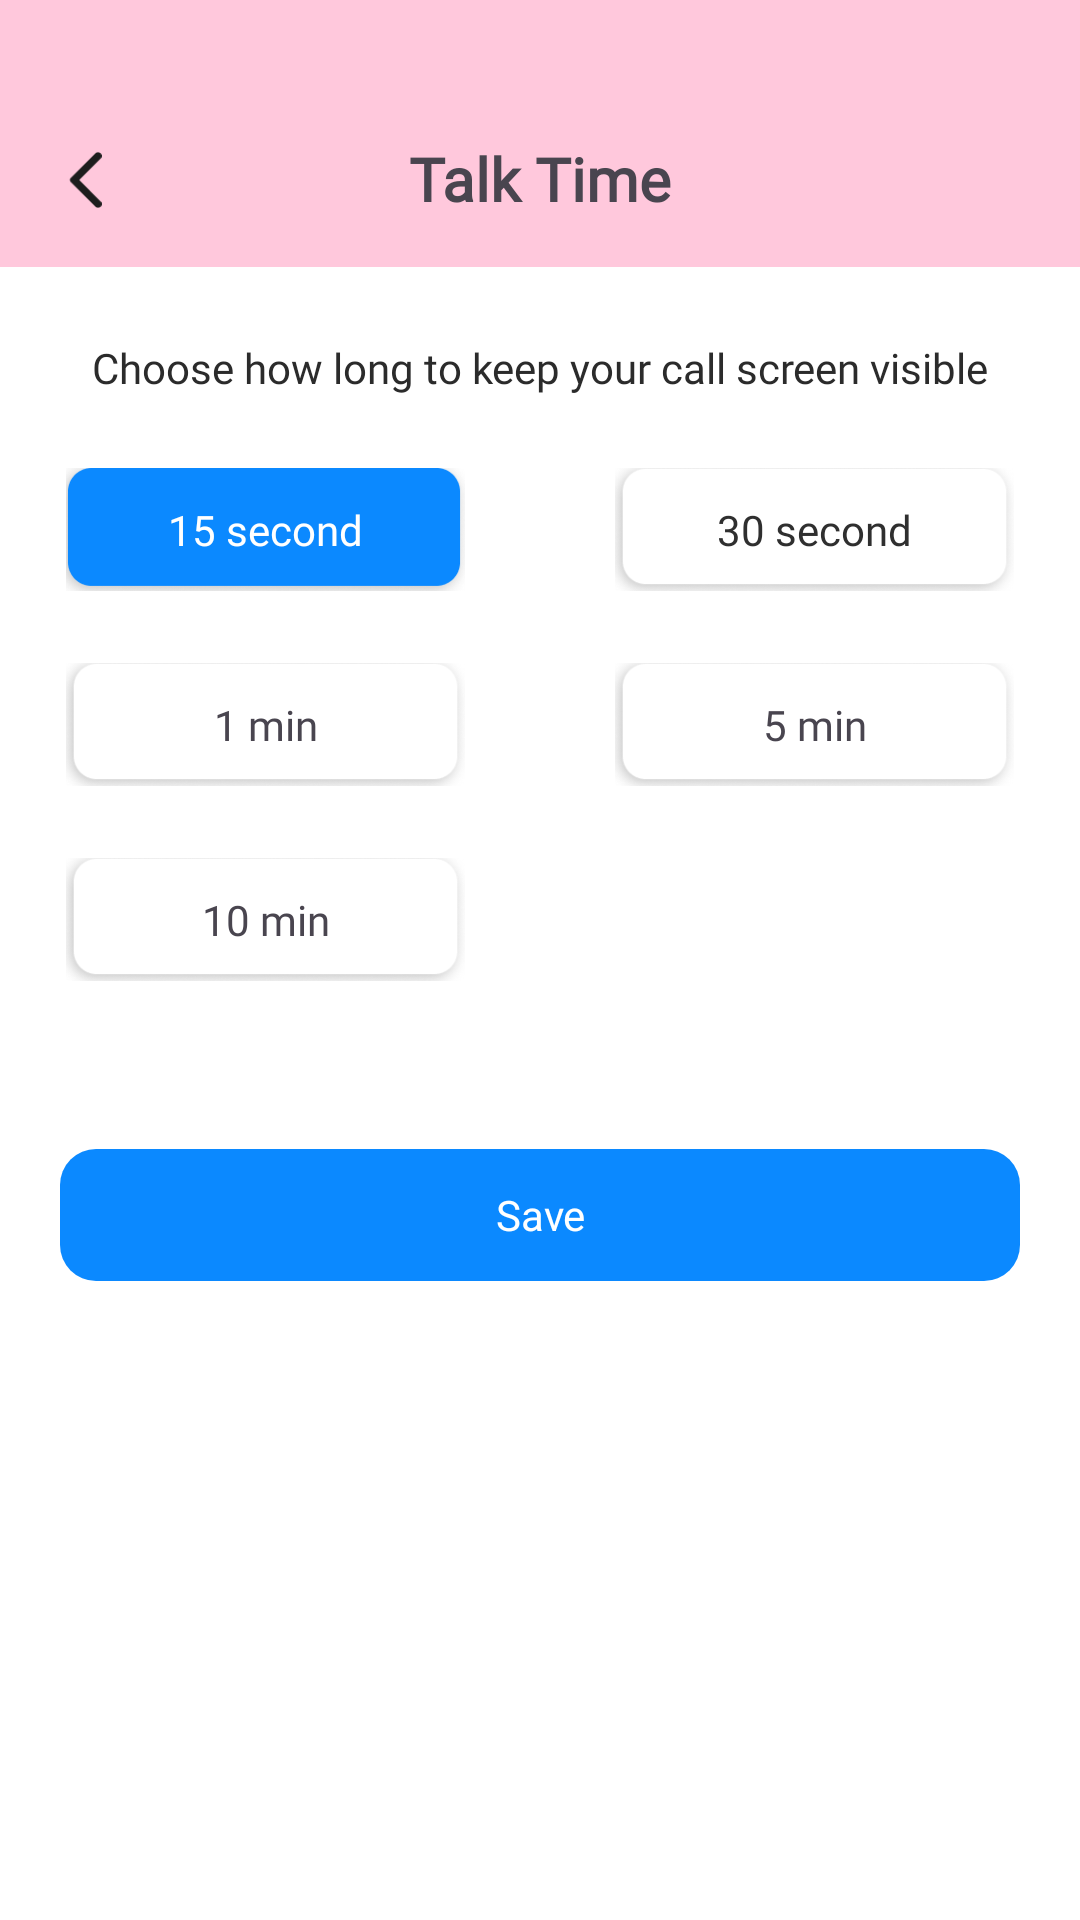

Point at icon controls on the screen. Image size 1080 x 1920, points as (x,y).
arrowback addfakecall: (85,180)
